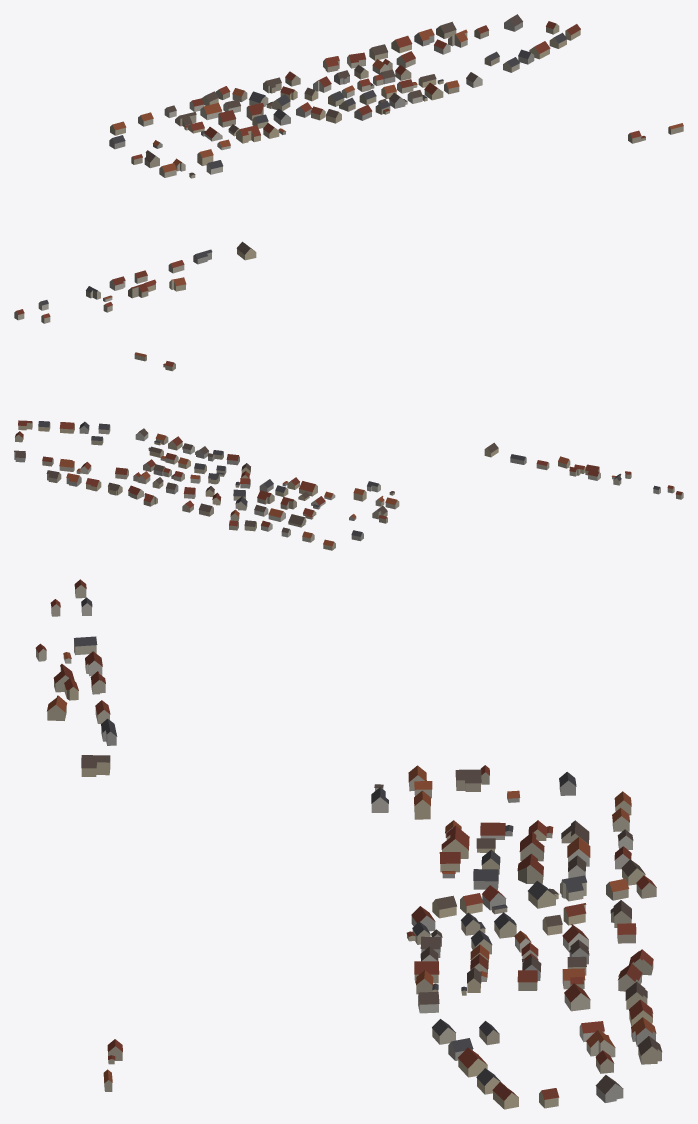
3 views of the same model, one above another, from view 1: azimuth 30°, elevation 25°; view 2: azimuth 150°, elevation 25°; view 3: azimuth 270°, elevation 25° (orthographic). The views are drawn at different scales.
Visible parts, largest first — view 1: buildings; view 2: buildings; view 3: buildings.
Boxes of the visible parts, x1,y1,x2,y2 form: buildings: [14, 14, 683, 323]; buildings: [14, 352, 683, 550]; buildings: [35, 579, 662, 1109].
Size of the model in its own units: 769 by 33.96 by 374.
